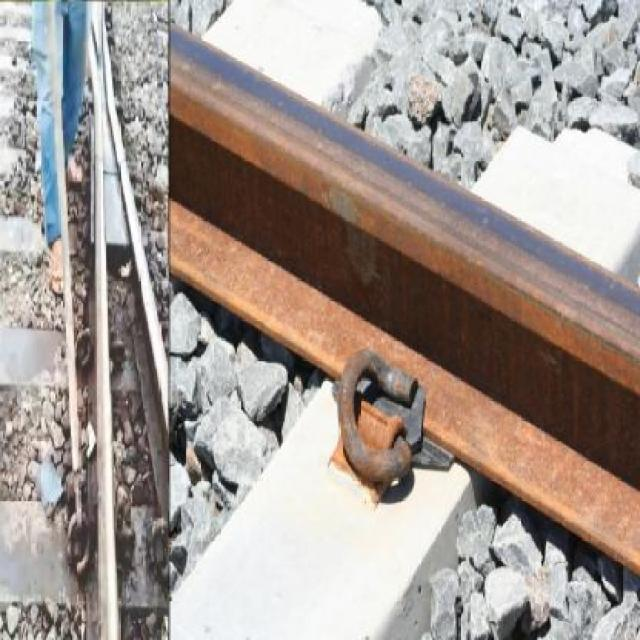defective: (169, 17, 640, 628)
